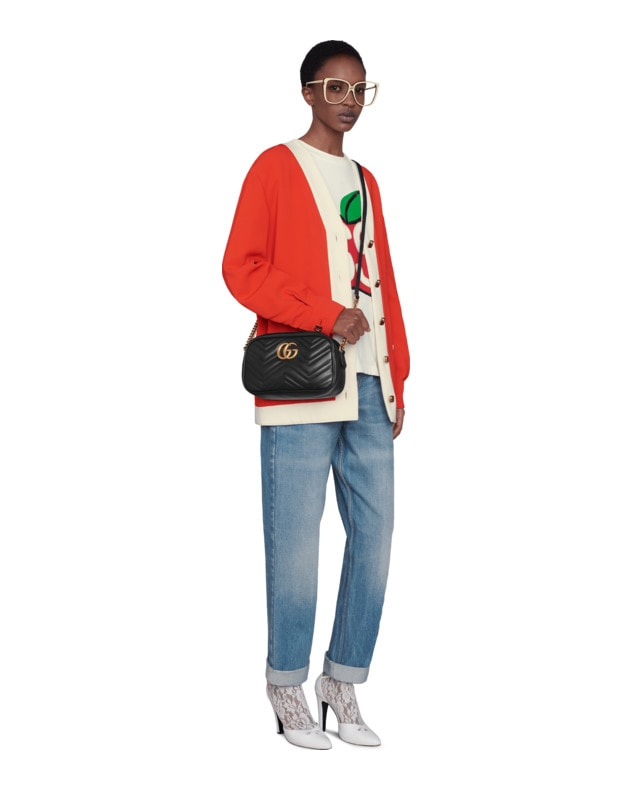Gucci: (235, 325, 357, 412), (271, 339, 301, 364)
